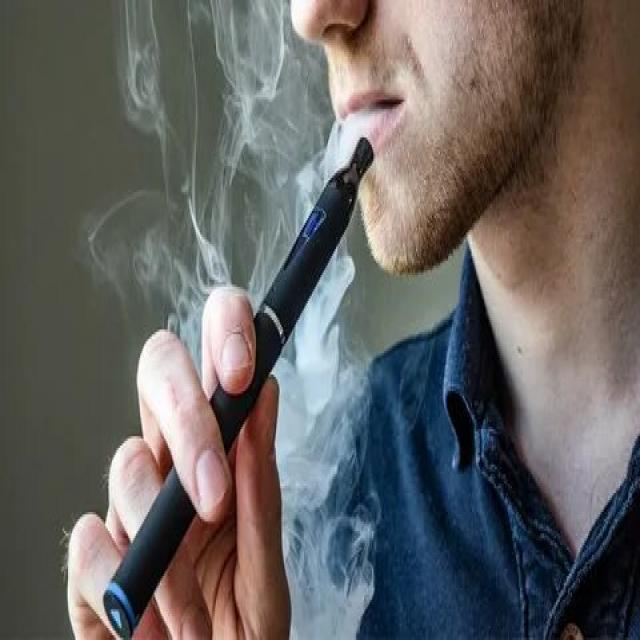cigarette: (102, 132, 373, 640)
